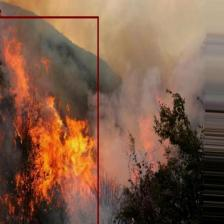fire: (0, 16, 98, 224)
